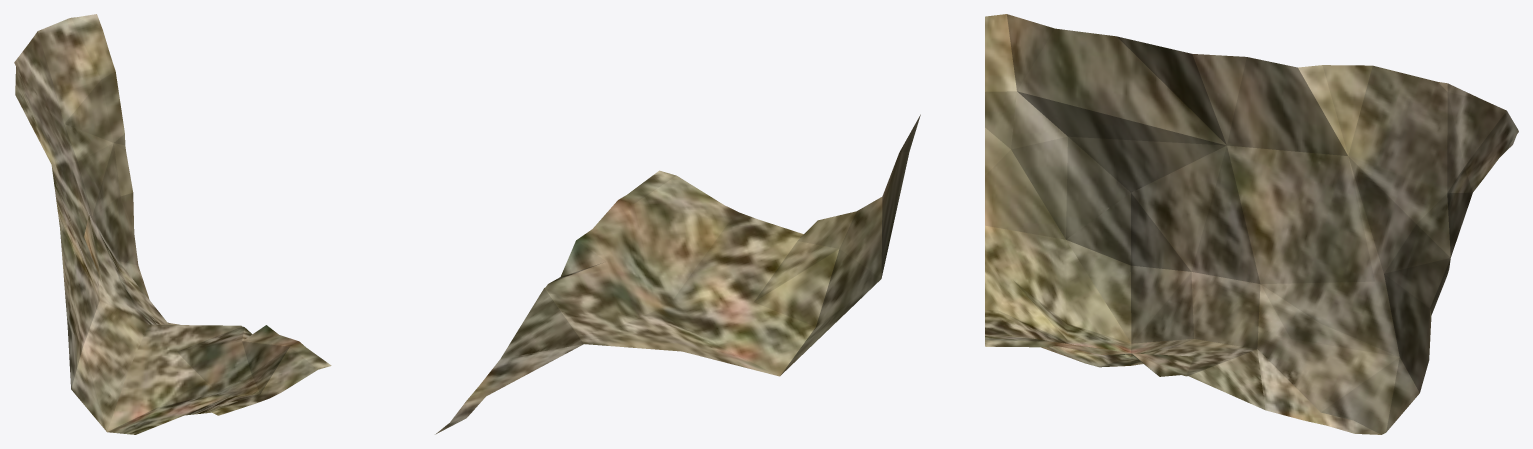
3 views of the same model, side by side, from view 1: azimuth 30°, elevation 25°; view 2: azimuth 150°, elevation 25°; view 3: azimuth 270°, elevation 25° (orthographic). The views are drawn at different scales.
Size of the model in its own units: 1.51 by 1.57 by 2.61.
2 materials, 2 textured.
